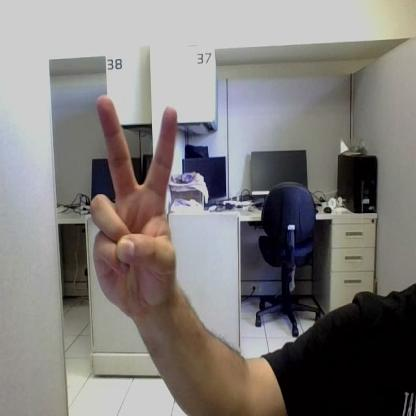V: (92, 95, 176, 314)
